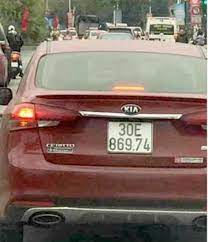Car number plates: (107, 119, 153, 155)
